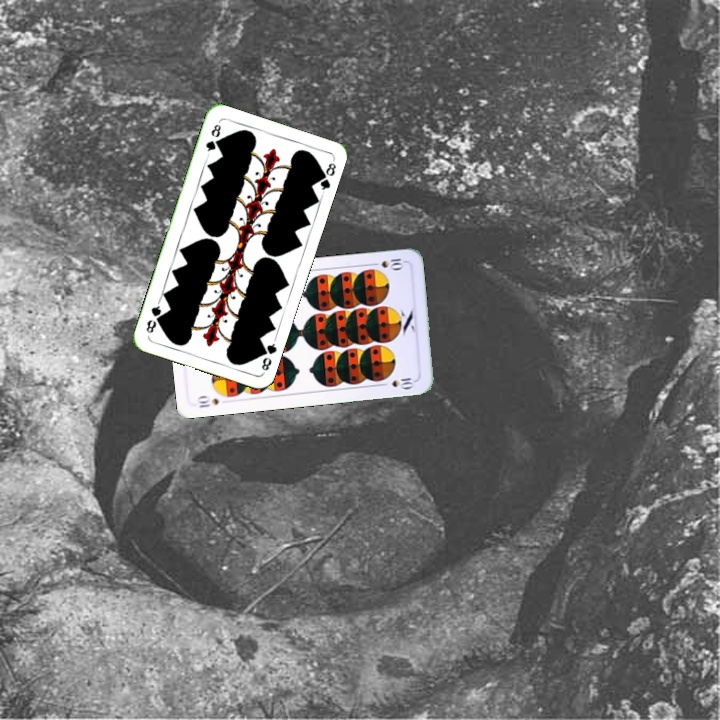G8: (256, 335, 279, 375), (201, 120, 223, 154)
S10: (366, 254, 407, 274), (194, 392, 221, 410)
